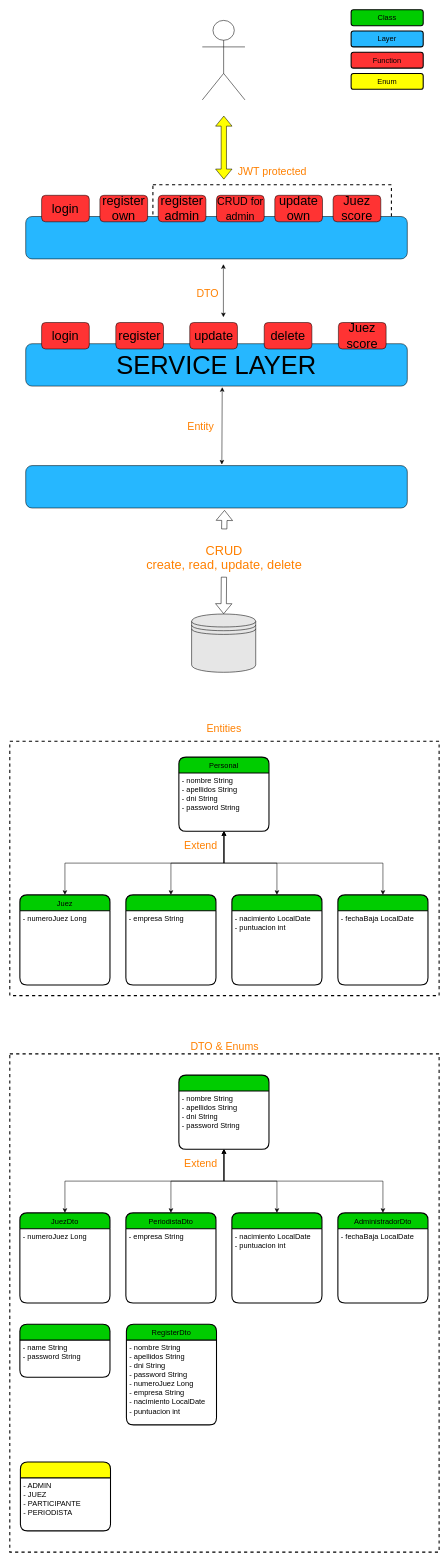
Some shapes in this 448 by 1561 pixel diagram are drawn without their labels. The shapes that lost their labels are listed below. From the top down, each one's box as (x1, y1, x2, y2) in pixels, then its label:
(202, 20, 245, 100): Client
(25, 216, 407, 259): REST API
(25, 465, 407, 508): REPOSITORY LAYER
(191, 613, 256, 672): DB
(125, 894, 216, 985): Periodista
(231, 894, 322, 985): Participante
(337, 894, 428, 985): Administrador
(178, 1074, 269, 1150): PersonalDto
(231, 1212, 322, 1303): ParticipanteDto
(19, 1323, 110, 1377): LoginDto
(20, 1461, 111, 1531): TypePersonal
